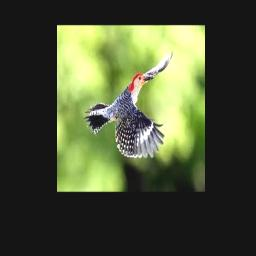Woodpecker: (85, 49, 173, 158)
